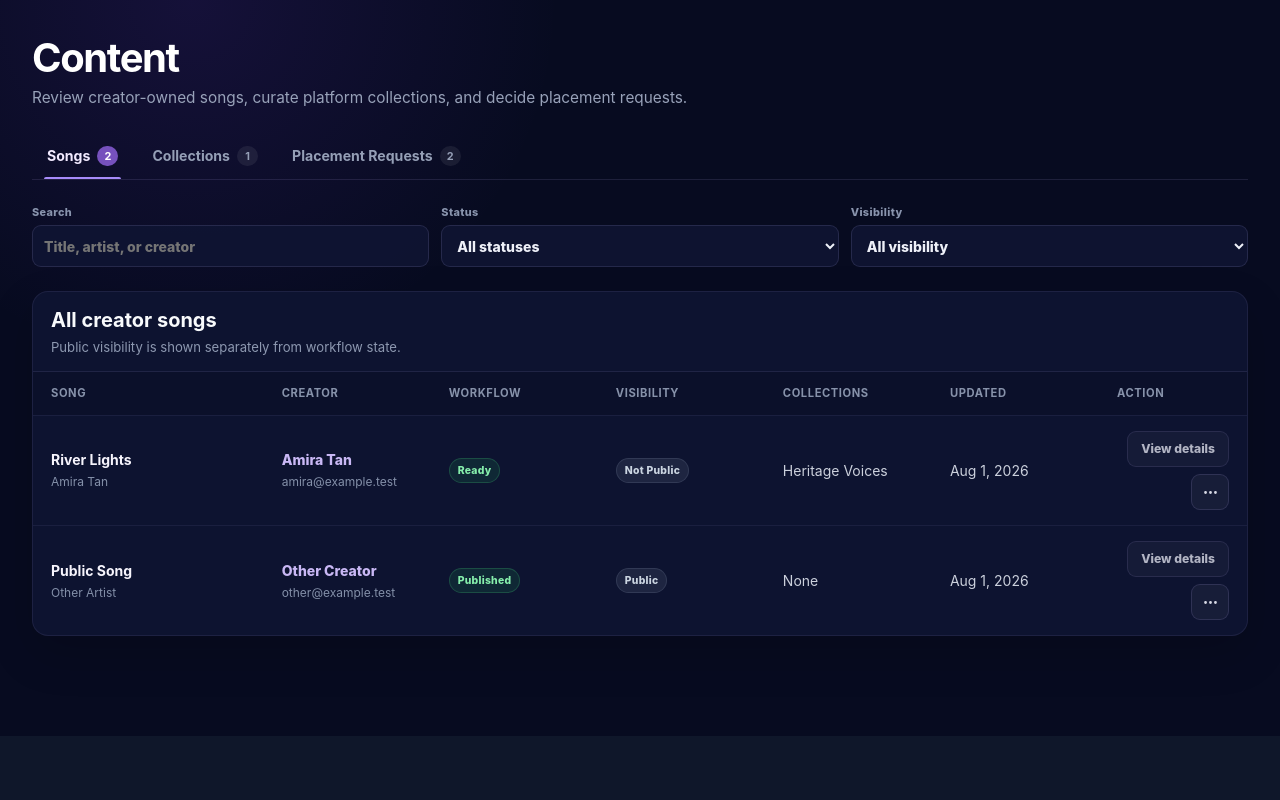
Test: Admin Content workflow › blocks duplicate publish submission while pending and updates the row and detail without reloading the list
Click the button named "More actions for River Lights" at (1210, 492), box [1191,474,1229,510]
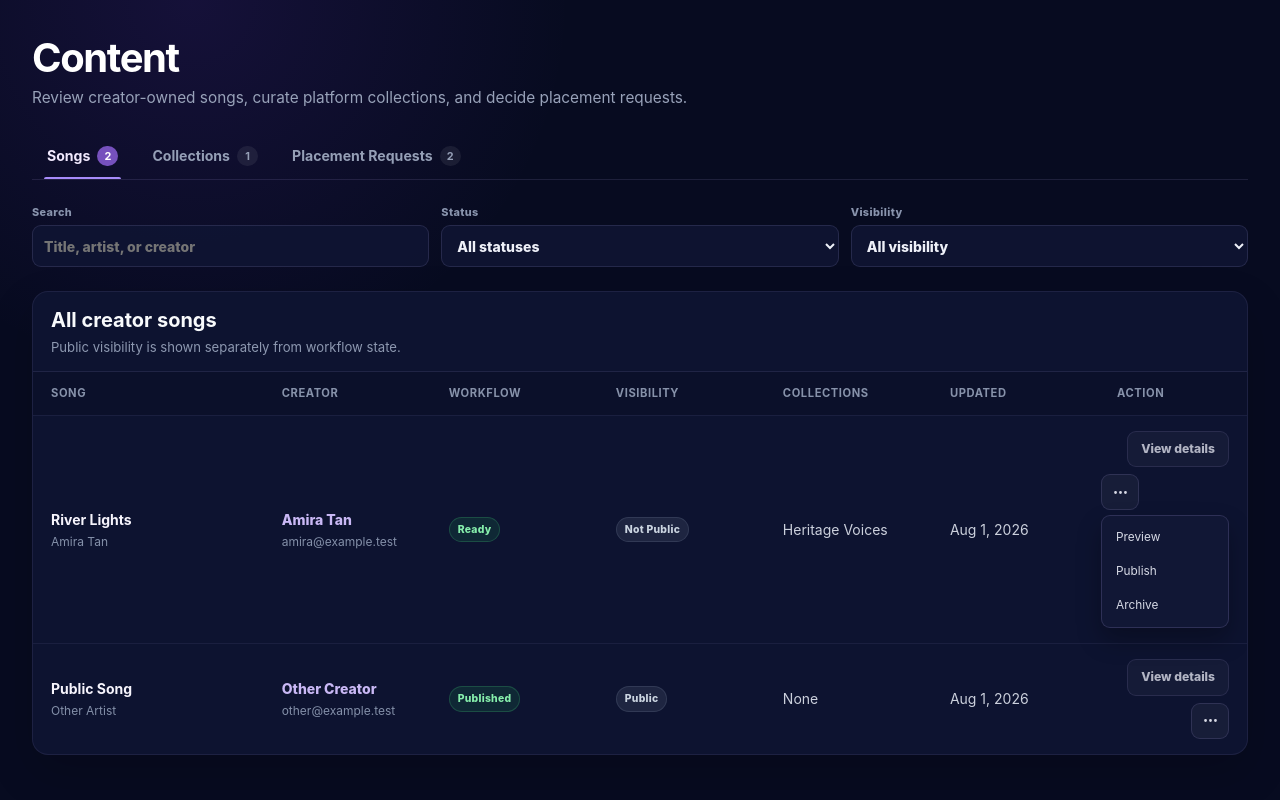
Click the button "Publish" at (1165, 572), box [1107,555,1223,589]
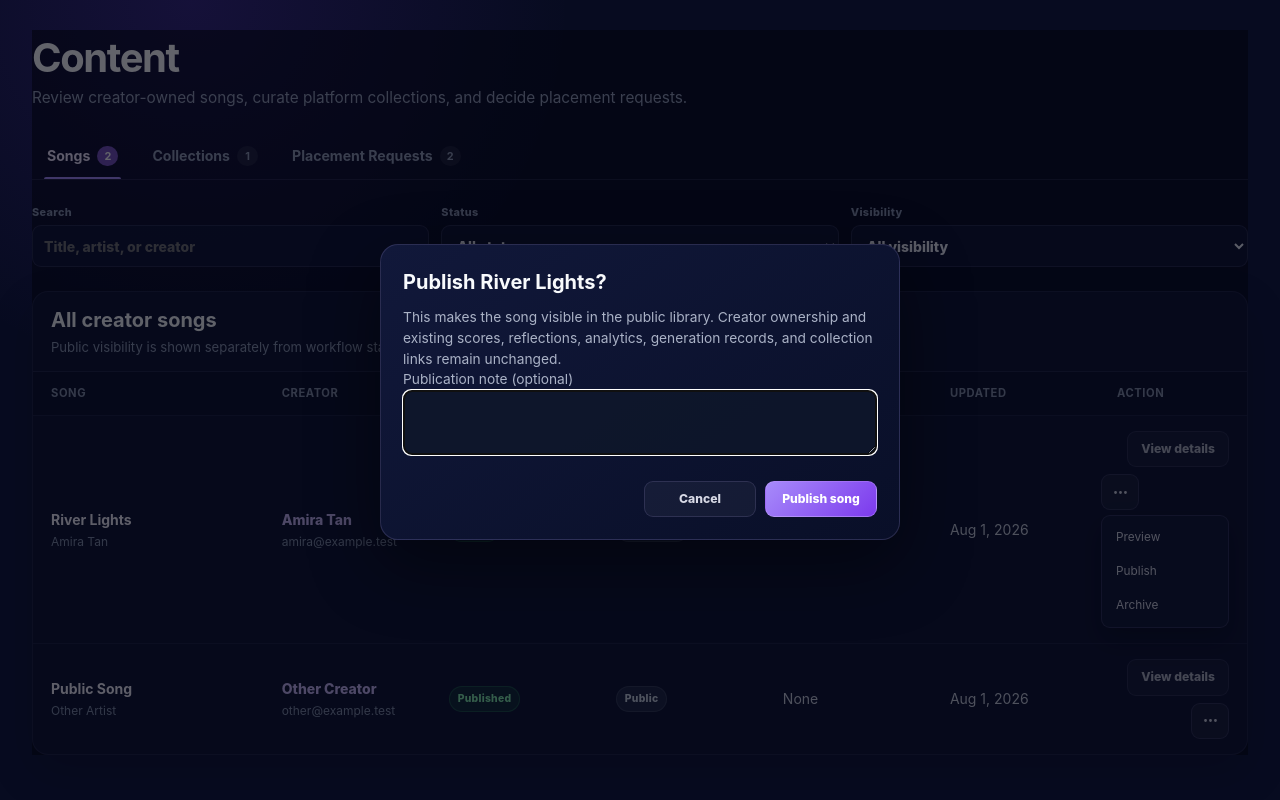
Click the button "Publish song" at (821, 499), box [765,481,877,517]
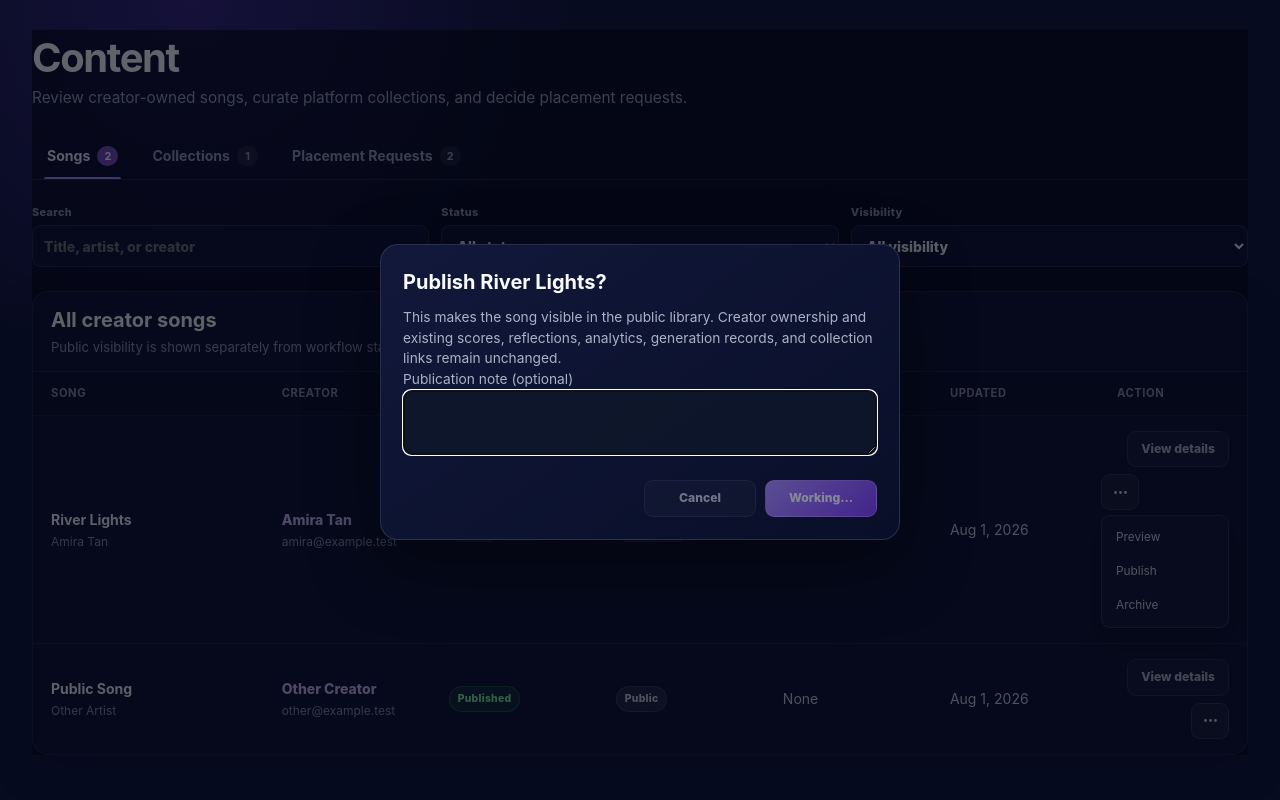
Result: the button "Working…" is disabled
Click the button "Working…" at (821, 499), box [765,481,877,517]
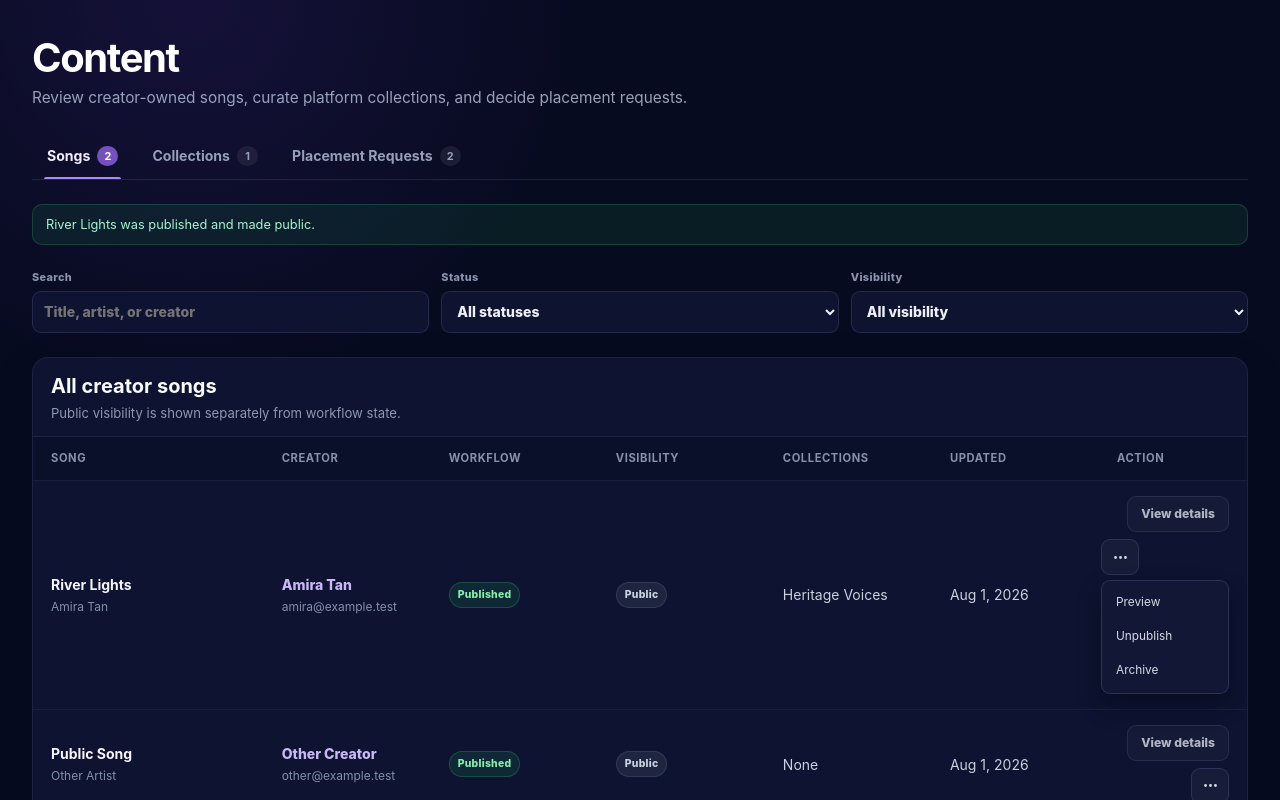
Expected: the text "Public" in the row of "amira@example.test" is shown, [625,588,658,601]
Result: the dialog is gone
Result: the text "Published" next to "amira@example.test" is shown at [458,588,511,601]
